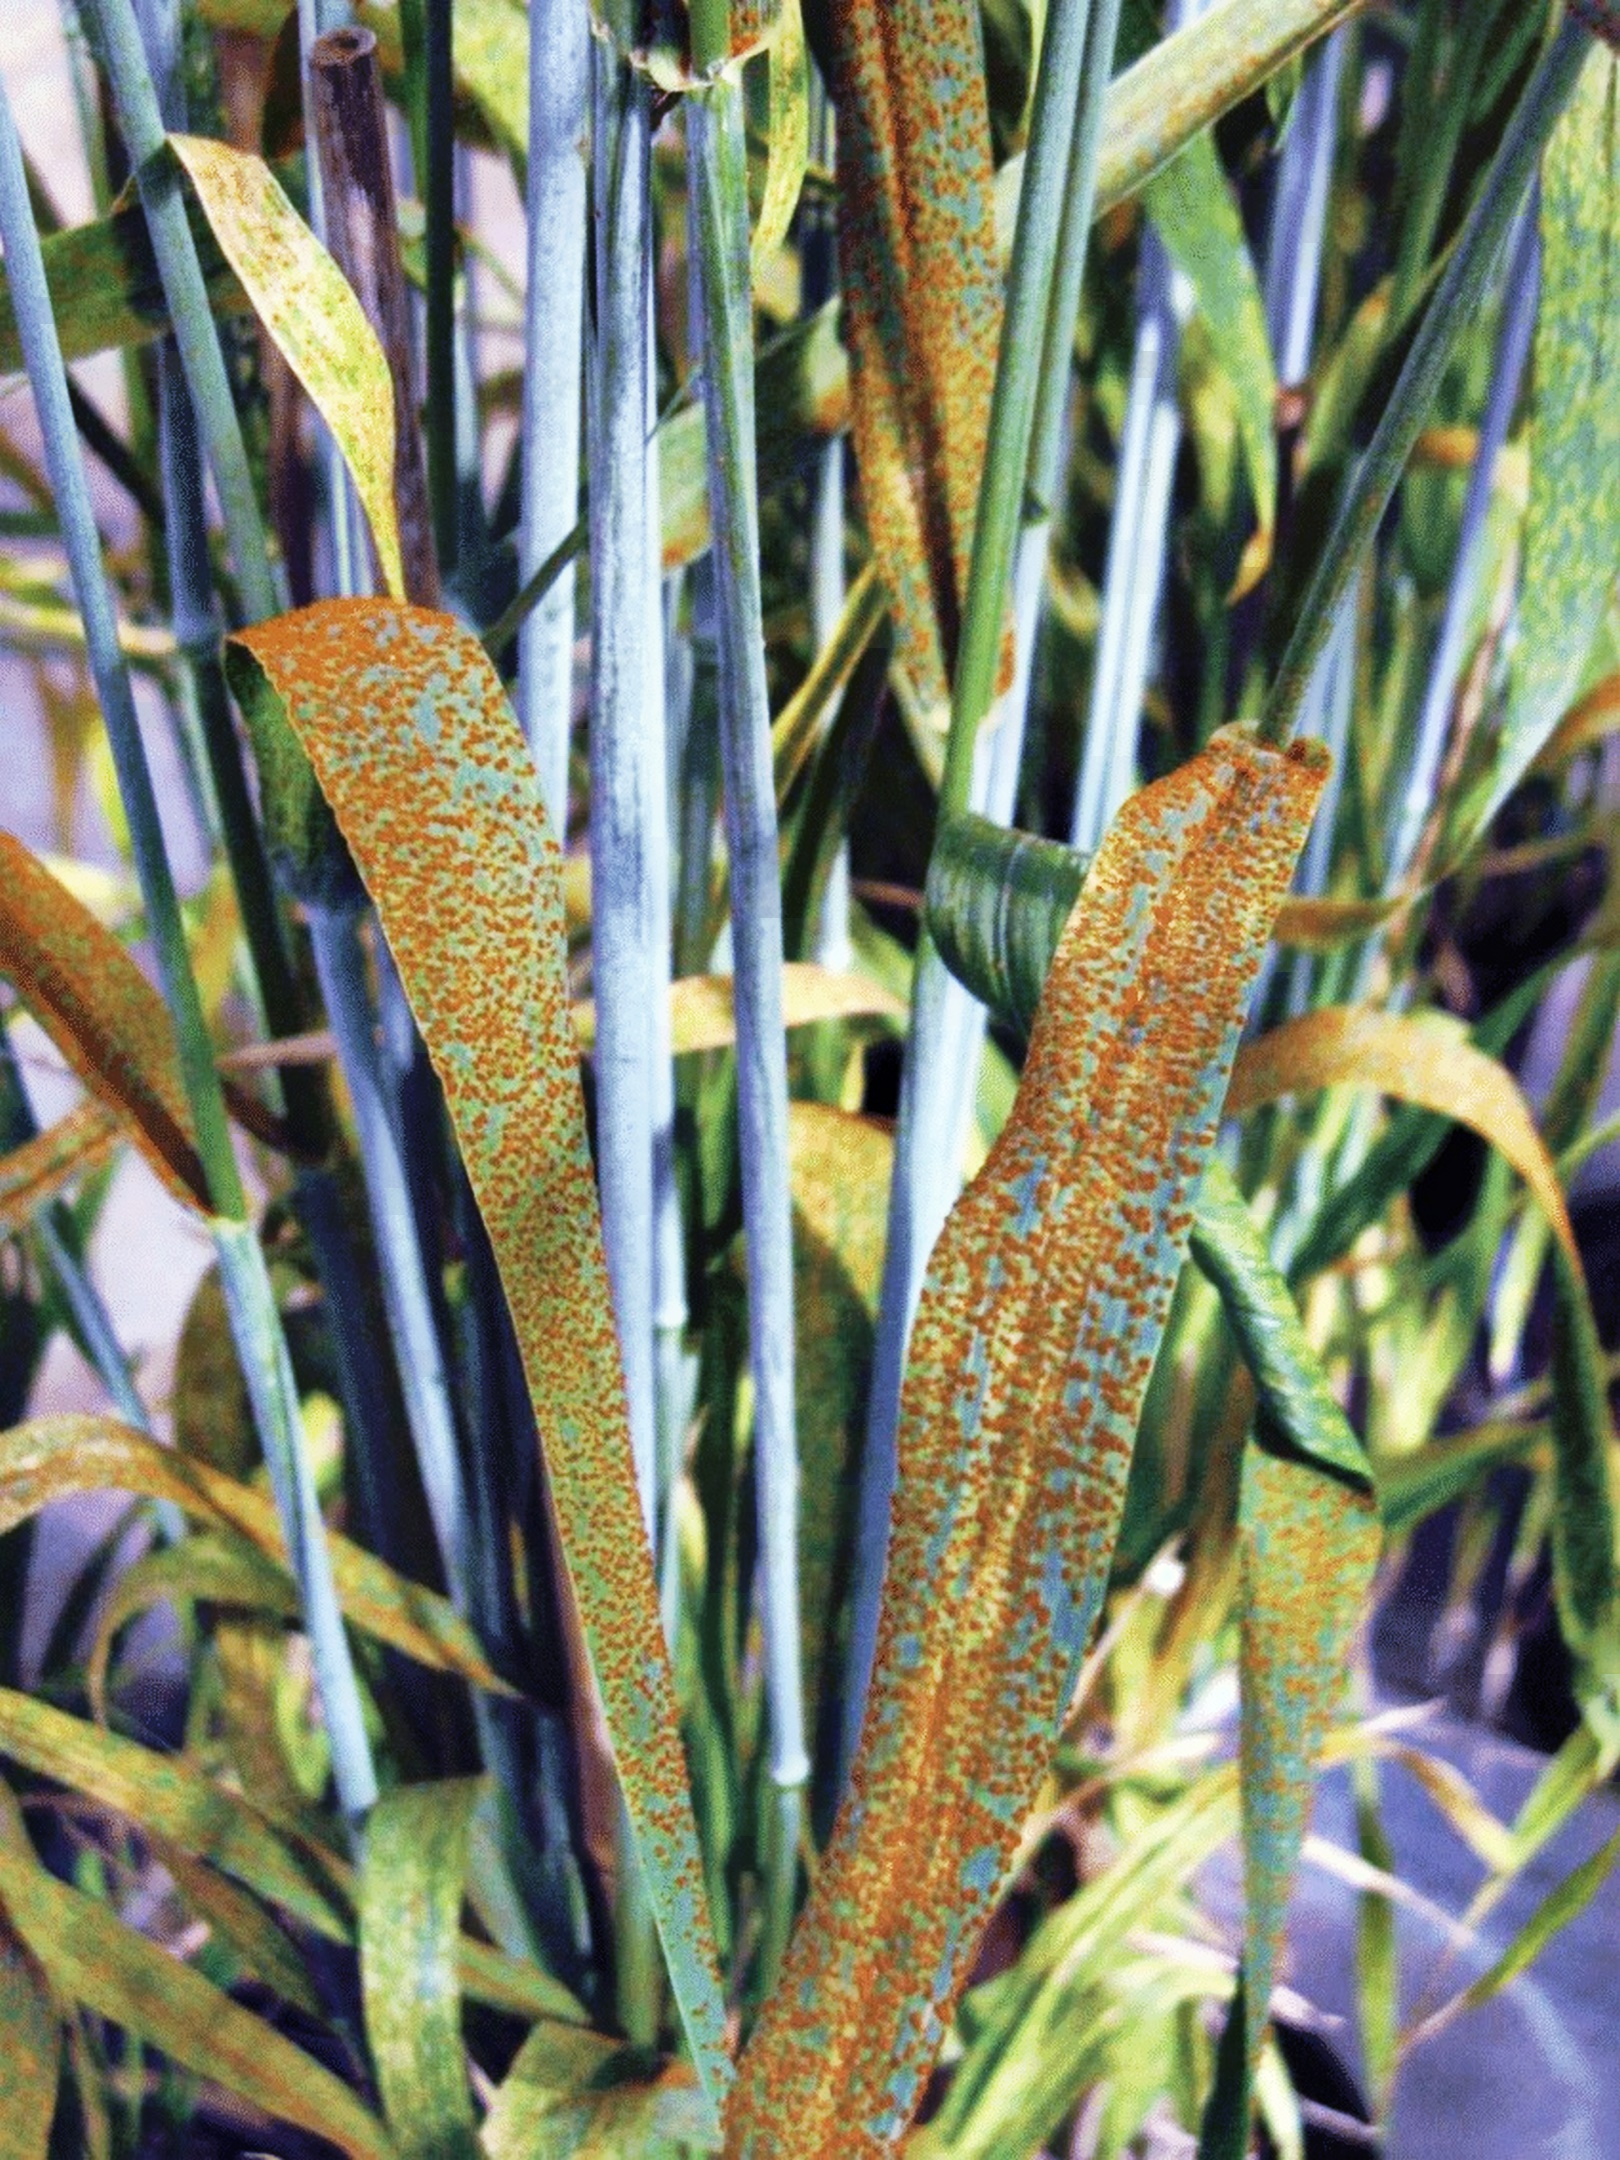Leaf Rust: (817, 745, 1339, 1985), (281, 631, 694, 1606)
